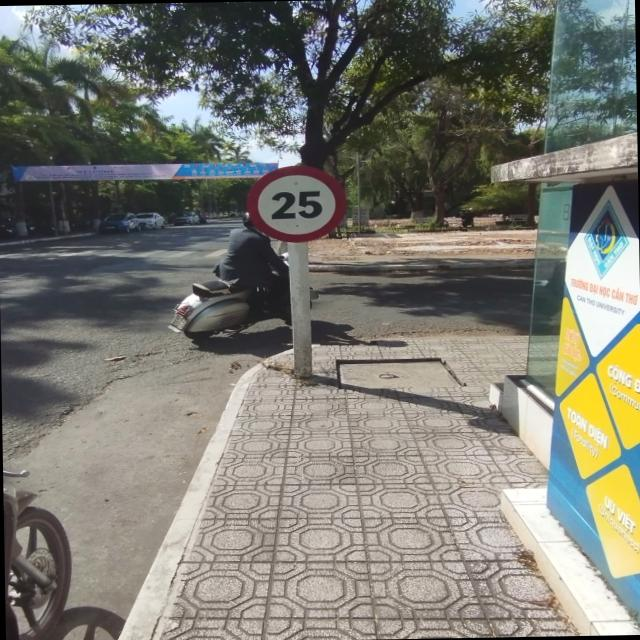Tre_Em: (244, 163, 350, 244)
